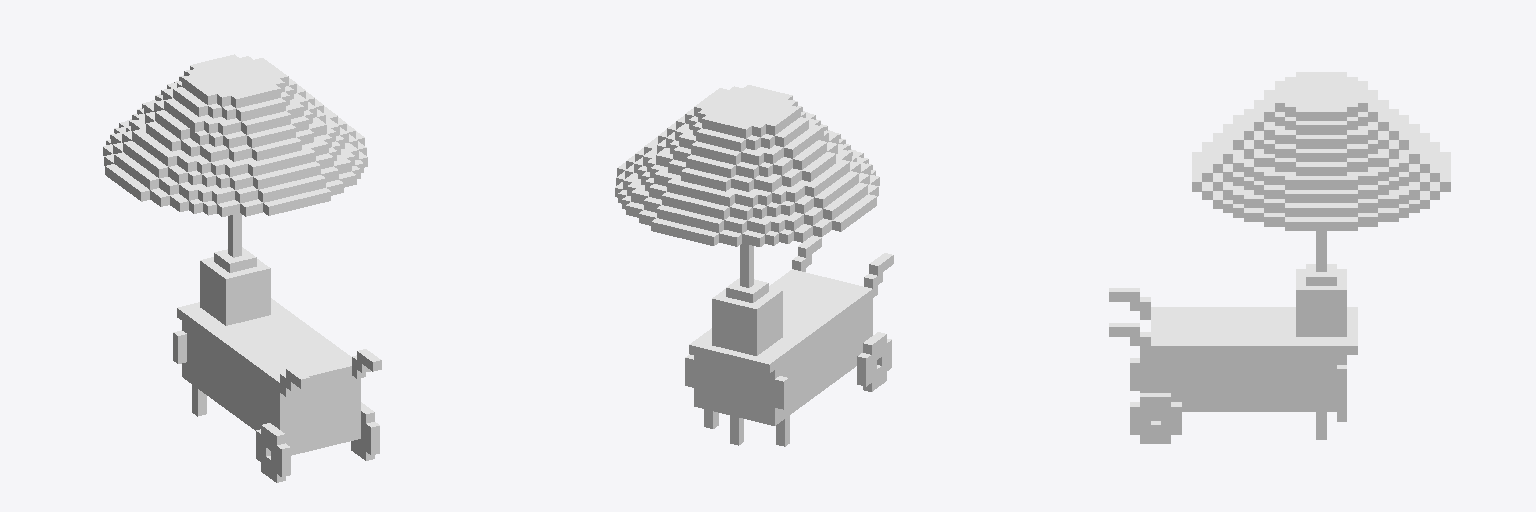
Rendered from HotDogCart.obj.
3 views of the same model, side by side, from view 1: azimuth 30°, elevation 25°; view 2: azimuth 150°, elevation 25°; view 3: azimuth 270°, elevation 25° (orthographic).
Bounding box in the file's own units: 25 × 35 × 33.